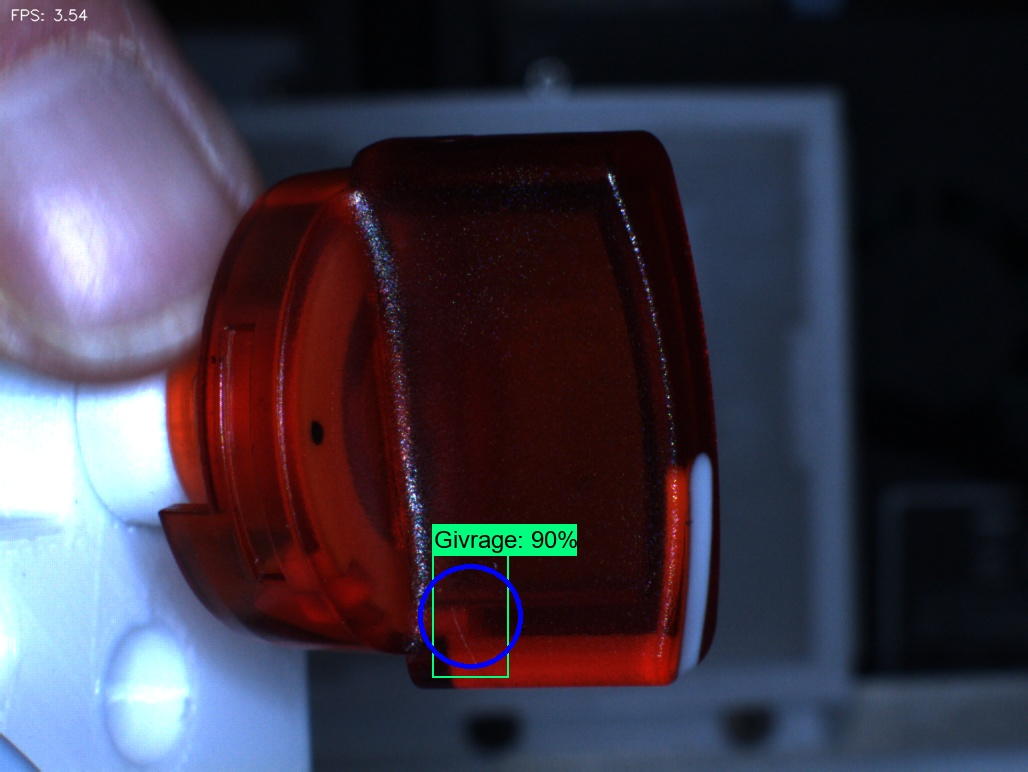PointNoir: (281, 375, 367, 494)
